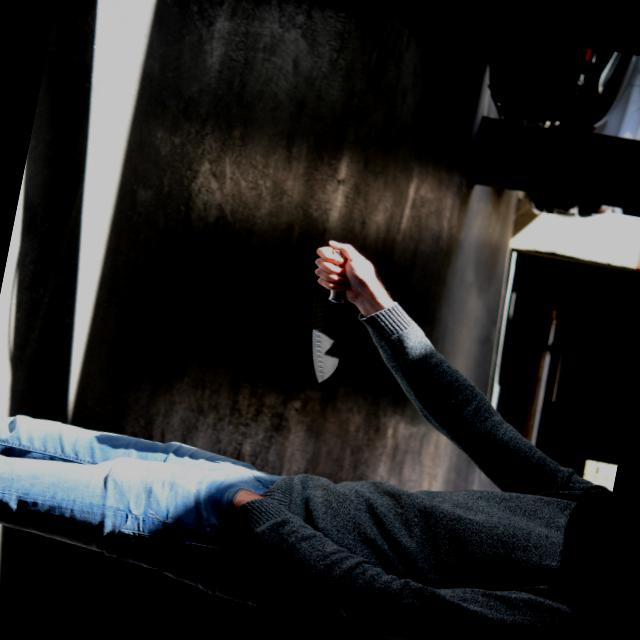knife: (288, 242, 373, 392)
